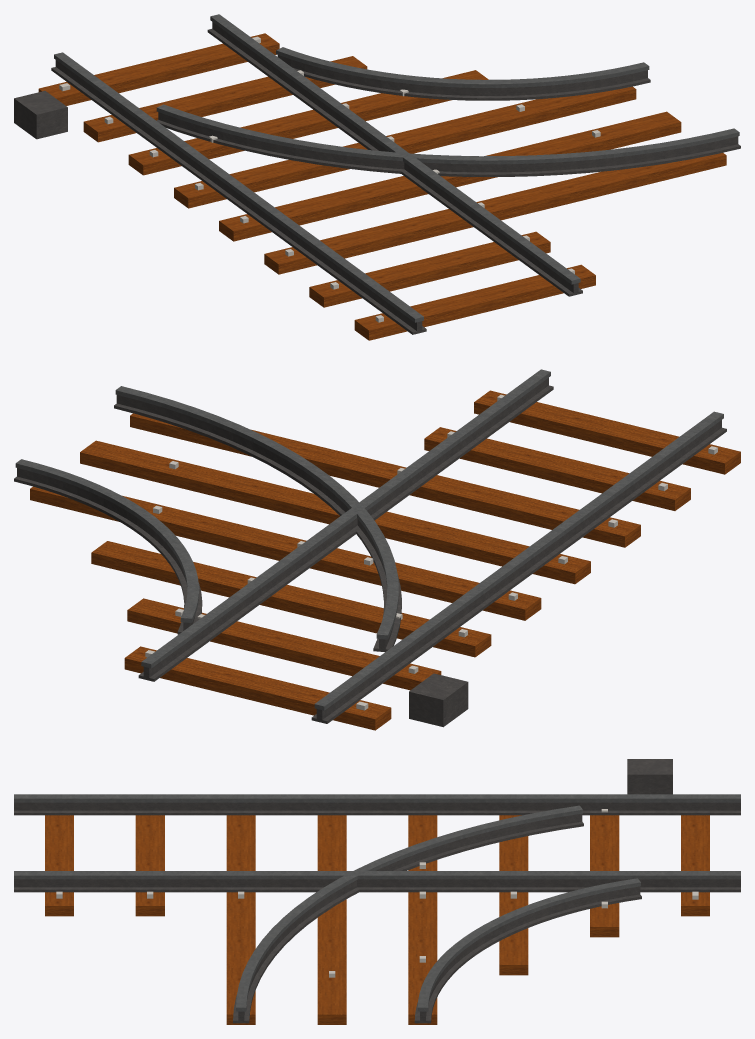
The model's file is rail_switch_right.gltf.
3 views of the same model, one above another, from view 1: azimuth 30°, elevation 25°; view 2: azimuth 150°, elevation 25°; view 3: azimuth 270°, elevation 25° (orthographic). The views are drawn at different scales.
Size of the model in its own units: 6.5 by 0.3125 by 8.
4 materials, 3 textured.
